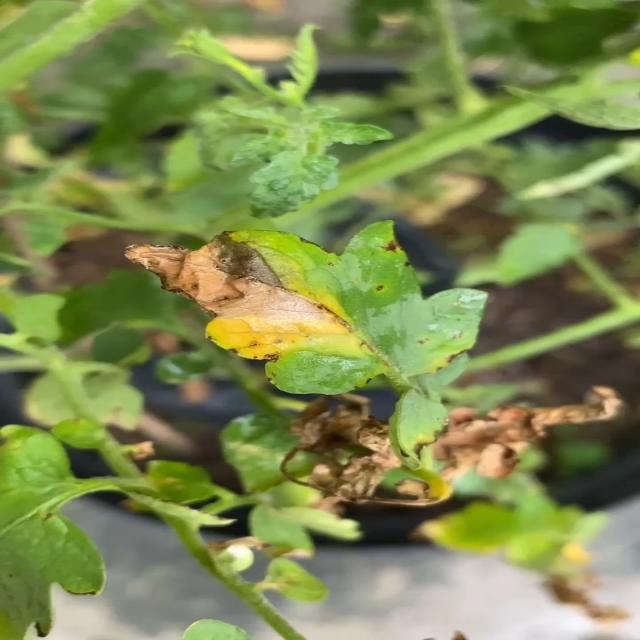Tomato_Late_Blight: (131, 223, 448, 384)
